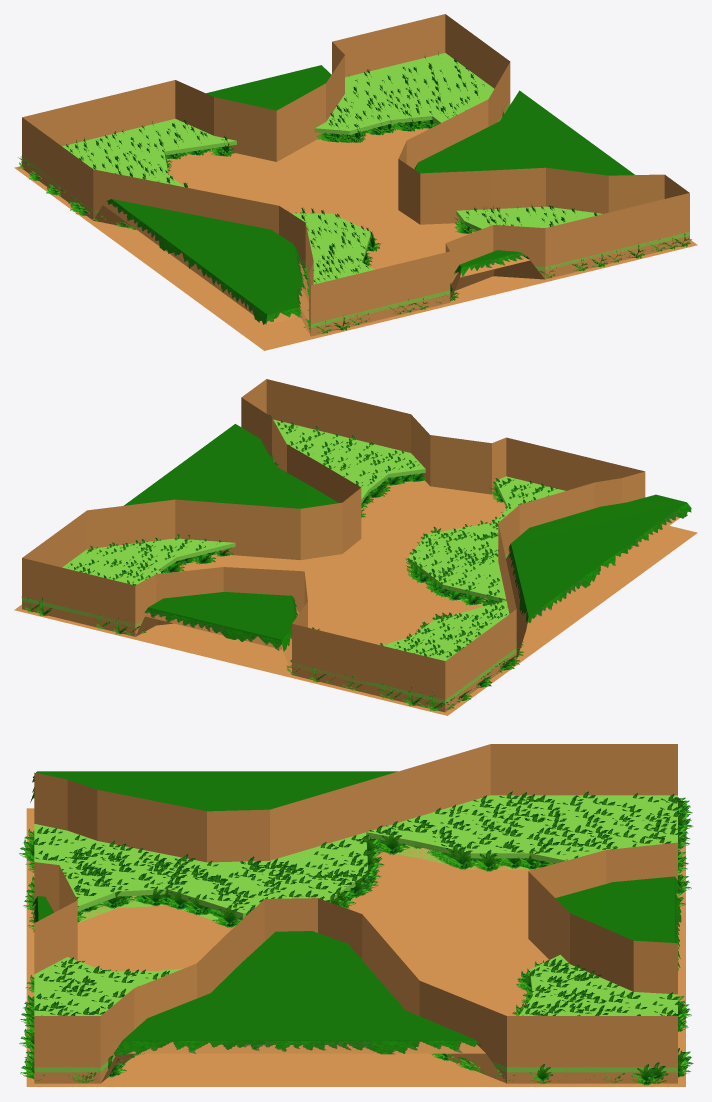
File: field1 c1 2.dae
The picture shows the model from 3 angles, top to bottom: view 1: azimuth 30°, elevation 25°; view 2: azimuth 150°, elevation 25°; view 3: azimuth 270°, elevation 25°; orthographic projection. The views are drawn at different scales.
Parts seen in each view (by area): view 1: colis, grasstop, Plane.001, Plane; view 2: colis, grasstop, Plane.001, Plane; view 3: colis, grasstop, Plane.001, Plane.
Part boxes in pixels (x1,y1,x2,y2): colis: (14,14,697,350); grasstop: (106,65,634,324); Plane.001: (22,53,689,327); Plane: (93,129,544,335); colis: (14,379,697,715); grasstop: (123,424,691,651); Plane.001: (22,419,565,703); Plane: (135,481,688,671); colis: (26,744,685,1086); grasstop: (30,771,681,1054); Plane.001: (34,795,677,1072); Plane: (34,845,677,1083).
Size of the model in its own units: 8.49 by 8.5 by 0.9418.
4 materials, 2 textured.
